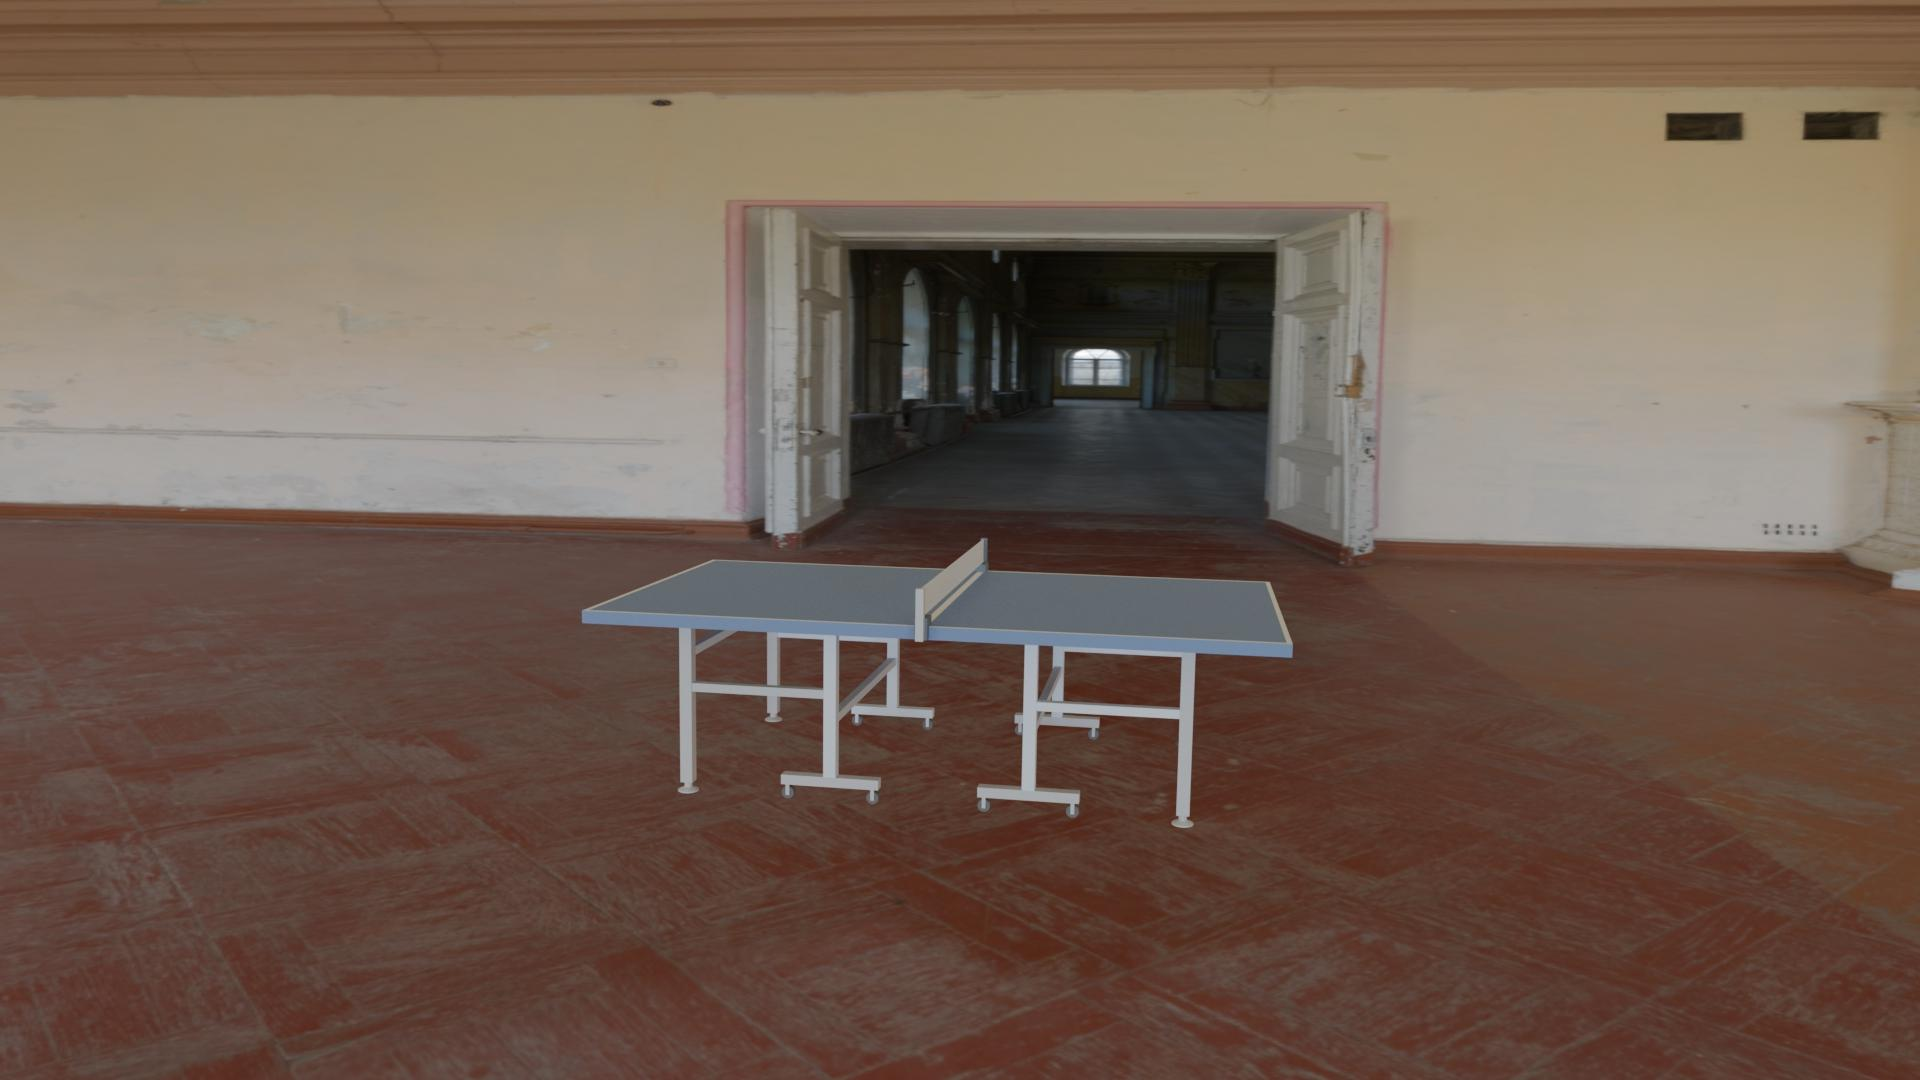table: (589, 560, 1287, 642)
